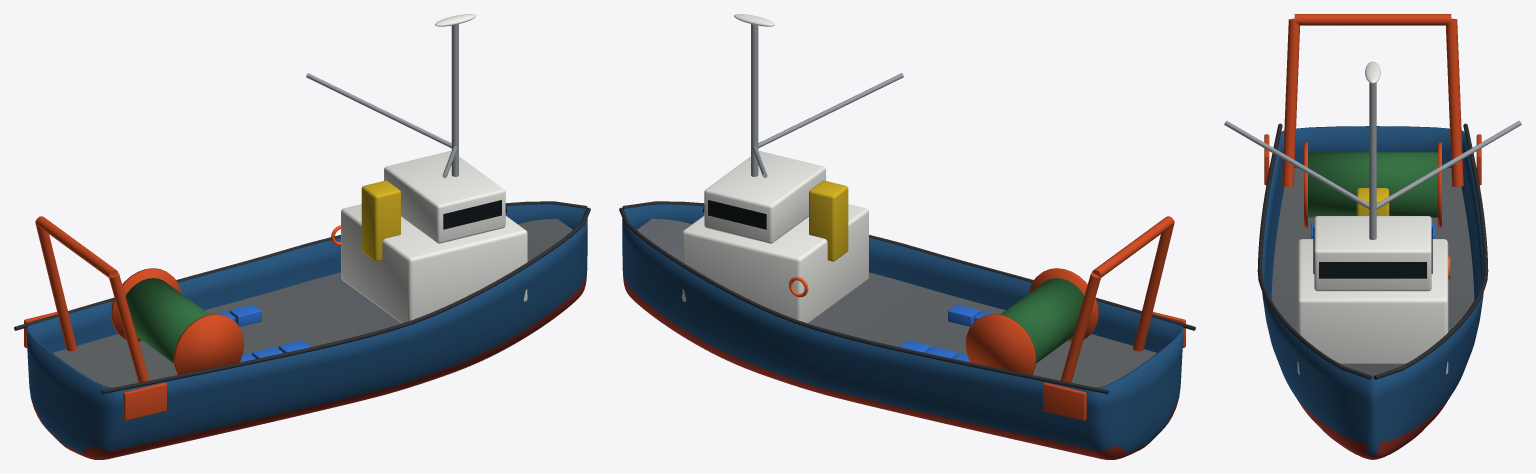
The model's file is trawler.glb.
3 renders of one model, left to right at view 1: azimuth 30°, elevation 25°; view 2: azimuth 150°, elevation 25°; view 3: azimuth 270°, elevation 25°, orthographic. The views are drawn at different scales.
Parts seen in each view (by area): view 1: hull, deck, wheelhouse, wh_upper, net_drum, drum_flange.001, funnel, gunwale.001, gantry_leg, otter_board.001, gantry_leg.001, gunwale (+5 smaller); view 2: hull, deck, wheelhouse, wh_upper, net_drum, drum_flange, funnel, gunwale, gantry_leg.001, otter_board, gantry_leg, gunwale.001 (+5 smaller); view 3: hull, wheelhouse, deck, wh_upper, net_drum, gantry_leg, gantry_leg.001, gantry_top, wh_front, gunwale, gunwale.001, mast (+5 smaller).
Part boxes in pixels (x1=…): hull: x1=26, y1=204, x2=587, y2=459; deck: x1=53, y1=218, x2=572, y2=387; wheelhouse: x1=341, y1=204, x2=527, y2=323; wh_upper: x1=384, y1=151, x2=505, y2=243; net_drum: x1=125, y1=278, x2=209, y2=363; drum_flange.001: x1=173, y1=314, x2=244, y2=374; funnel: x1=361, y1=180, x2=400, y2=261; gunwale.001: x1=101, y1=207, x2=590, y2=394; gantry_leg: x1=35, y1=221, x2=76, y2=351; otter_board.001: x1=123, y1=382, x2=166, y2=420; gantry_leg.001: x1=109, y1=273, x2=149, y2=382; gunwale: x1=14, y1=201, x2=587, y2=330; hull: x1=622, y1=204, x2=1183, y2=459; deck: x1=637, y1=218, x2=1156, y2=387; wheelhouse: x1=682, y1=204, x2=868, y2=323; wh_upper: x1=704, y1=151, x2=825, y2=243; net_drum: x1=1000, y1=278, x2=1084, y2=363; drum_flange: x1=965, y1=314, x2=1036, y2=374; funnel: x1=809, y1=180, x2=848, y2=261; gunwale: x1=619, y1=207, x2=1108, y2=394; gantry_leg.001: x1=1133, y1=221, x2=1174, y2=351; otter_board: x1=1043, y1=382, x2=1086, y2=420; gantry_leg: x1=1060, y1=273, x2=1100, y2=382; gunwale.001: x1=622, y1=201, x2=1195, y2=330; hull: x1=1262, y1=126, x2=1483, y2=459; wheelhouse: x1=1297, y1=239, x2=1448, y2=374; deck: x1=1271, y1=168, x2=1474, y2=376; wh_upper: x1=1314, y1=216, x2=1431, y2=291; net_drum: x1=1308, y1=152, x2=1437, y2=217; gantry_leg: x1=1446, y1=18, x2=1463, y2=186; gantry_leg.001: x1=1282, y1=18, x2=1299, y2=186; gantry_top: x1=1294, y1=14, x2=1451, y2=25; wh_front: x1=1319, y1=262, x2=1426, y2=278; gunwale: x1=1374, y1=123, x2=1488, y2=379; gunwale.001: x1=1257, y1=123, x2=1371, y2=379; mast: x1=1369, y1=82, x2=1376, y2=239.
Size of the model in its own units: 20.06 by 12.19 by 9.09.
